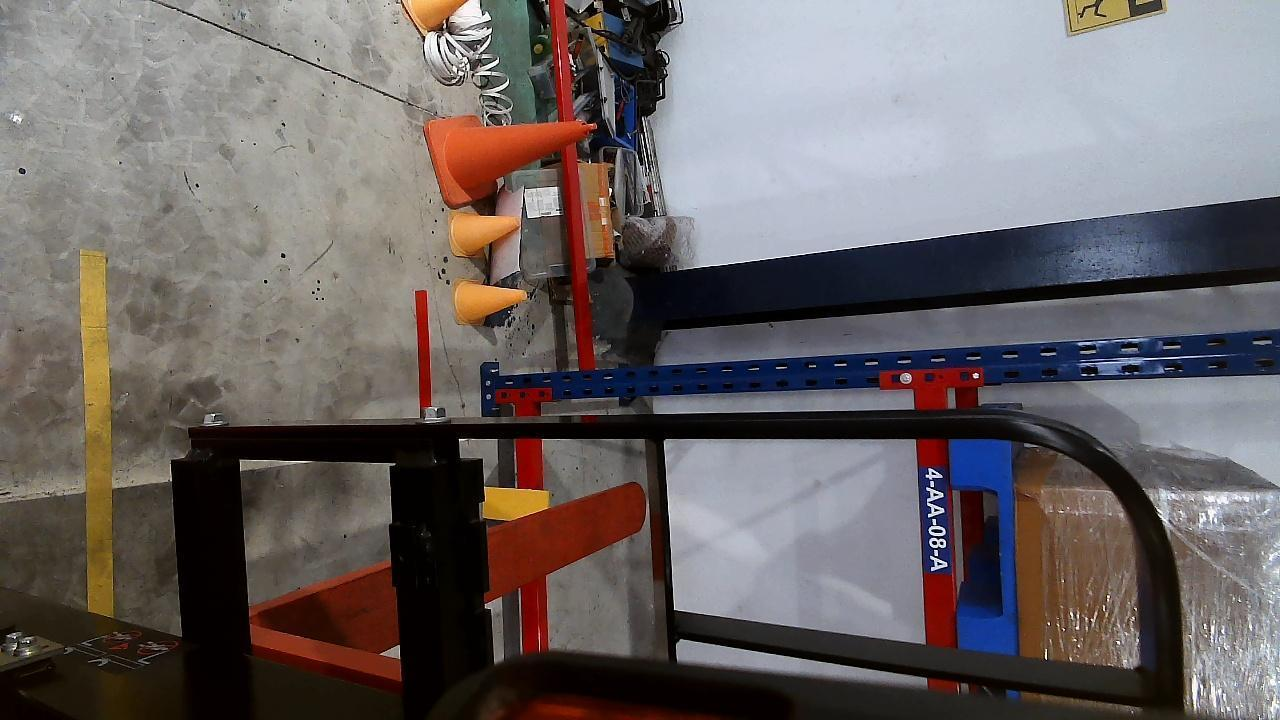red_line: (413, 290, 435, 413)
yellow_line: (79, 249, 113, 617)
